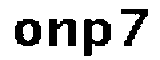7: (118, 4, 151, 52)
n: (45, 13, 79, 51)
o: (12, 15, 42, 49)
p: (80, 13, 113, 60)
